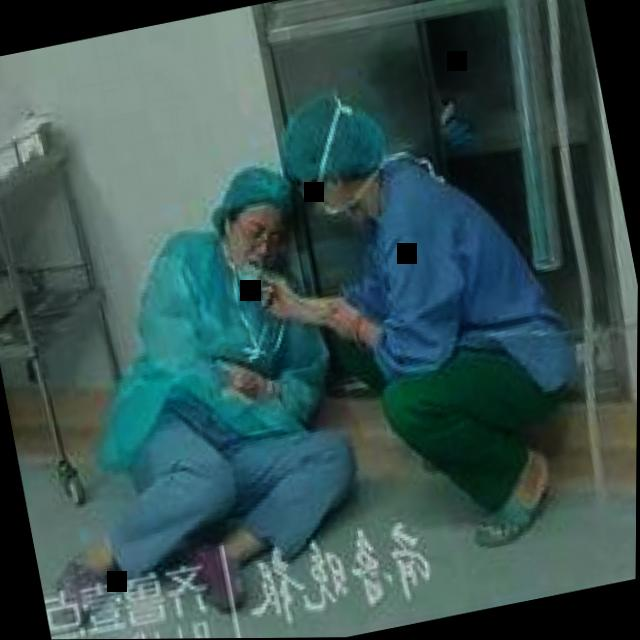Fall-Detected: (0, 128, 407, 640)
